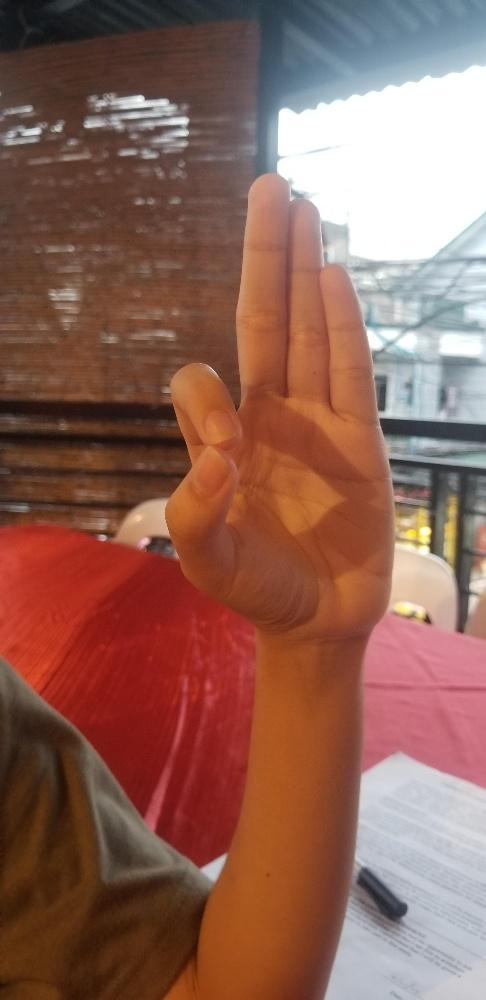f: (161, 171, 394, 633)
